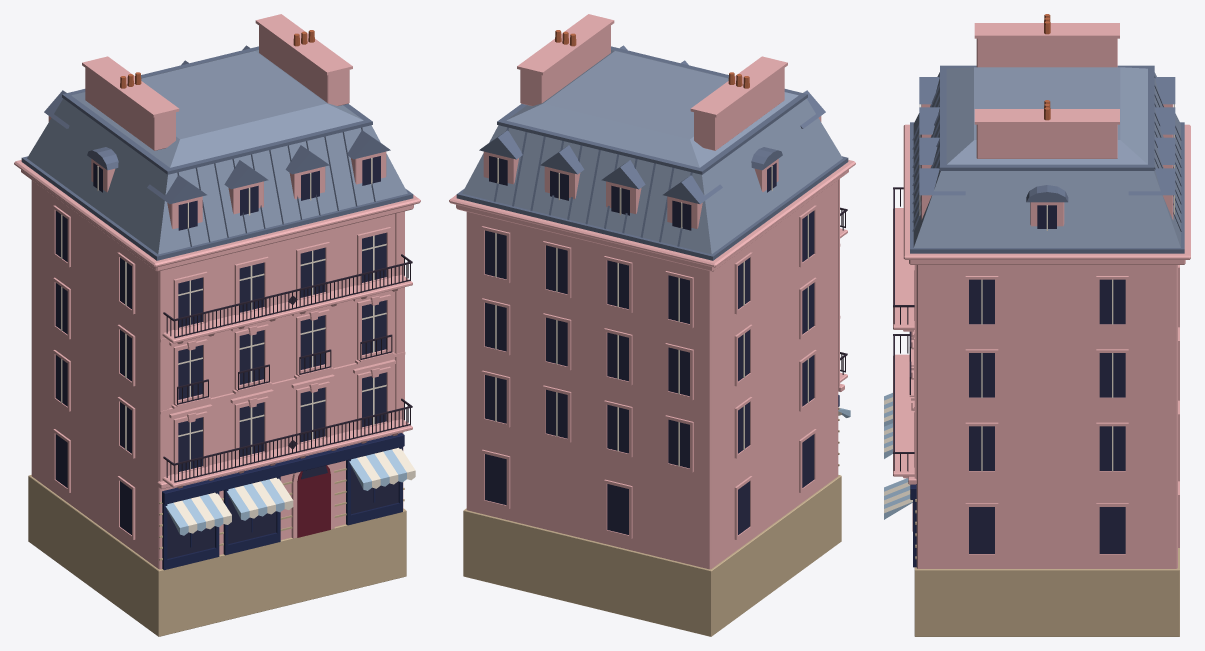
File: paris_pink.glb
The picture shows the model from 3 angles, left to right: view 1: azimuth 30°, elevation 25°; view 2: azimuth 150°, elevation 25°; view 3: azimuth 270°, elevation 25°; orthographic projection.
Visible parts, largest first — view 1: paris_pink; view 2: paris_pink; view 3: paris_pink.
Boxes of the visible parts, <box> form: paris_pink: <box>14,14,420,636</box>; paris_pink: <box>449,14,855,636</box>; paris_pink: <box>884,14,1190,636</box>.
Size of the model in its own units: 12 by 21.7 by 11.75.
